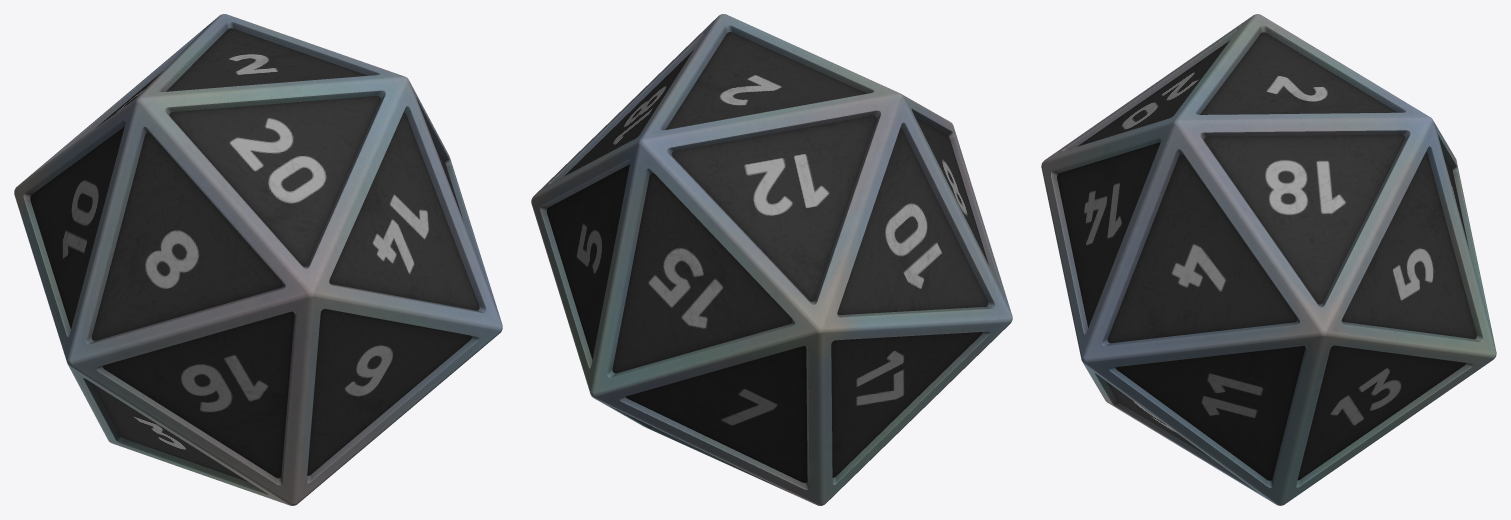
Rendered from d20_asset.glb.
3 views of the same model, side by side, from view 1: azimuth 30°, elevation 25°; view 2: azimuth 150°, elevation 25°; view 3: azimuth 270°, elevation 25° (orthographic). The views are drawn at different scales.
Visible parts, largest first — view 1: D20; view 2: D20; view 3: D20.
Boxes of the visible parts, x1,y1,x2,y2 form: D20: (14,14,502,505); D20: (531,14,1012,505); D20: (1041,14,1496,505).
Size of the model in its own units: 0.1922 by 0.1654 by 0.1813.
Materials: 1 (1 with a texture image).
